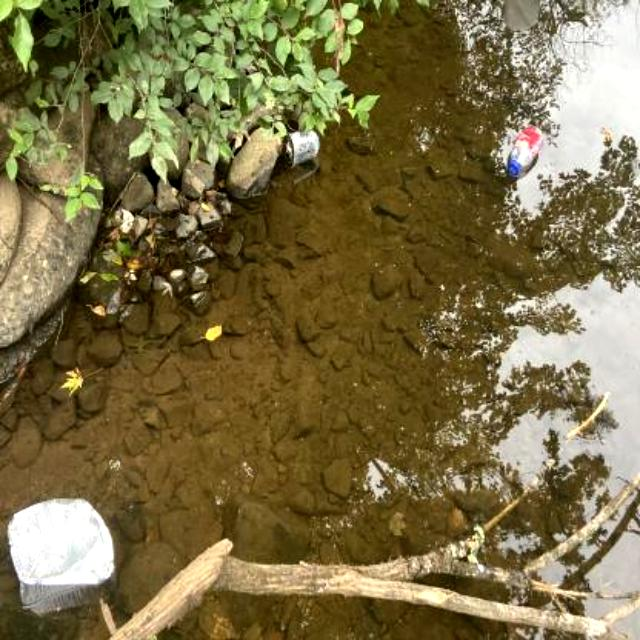Metal: (2, 482, 122, 620)
Plastic: (499, 118, 548, 182), (278, 122, 324, 174)
